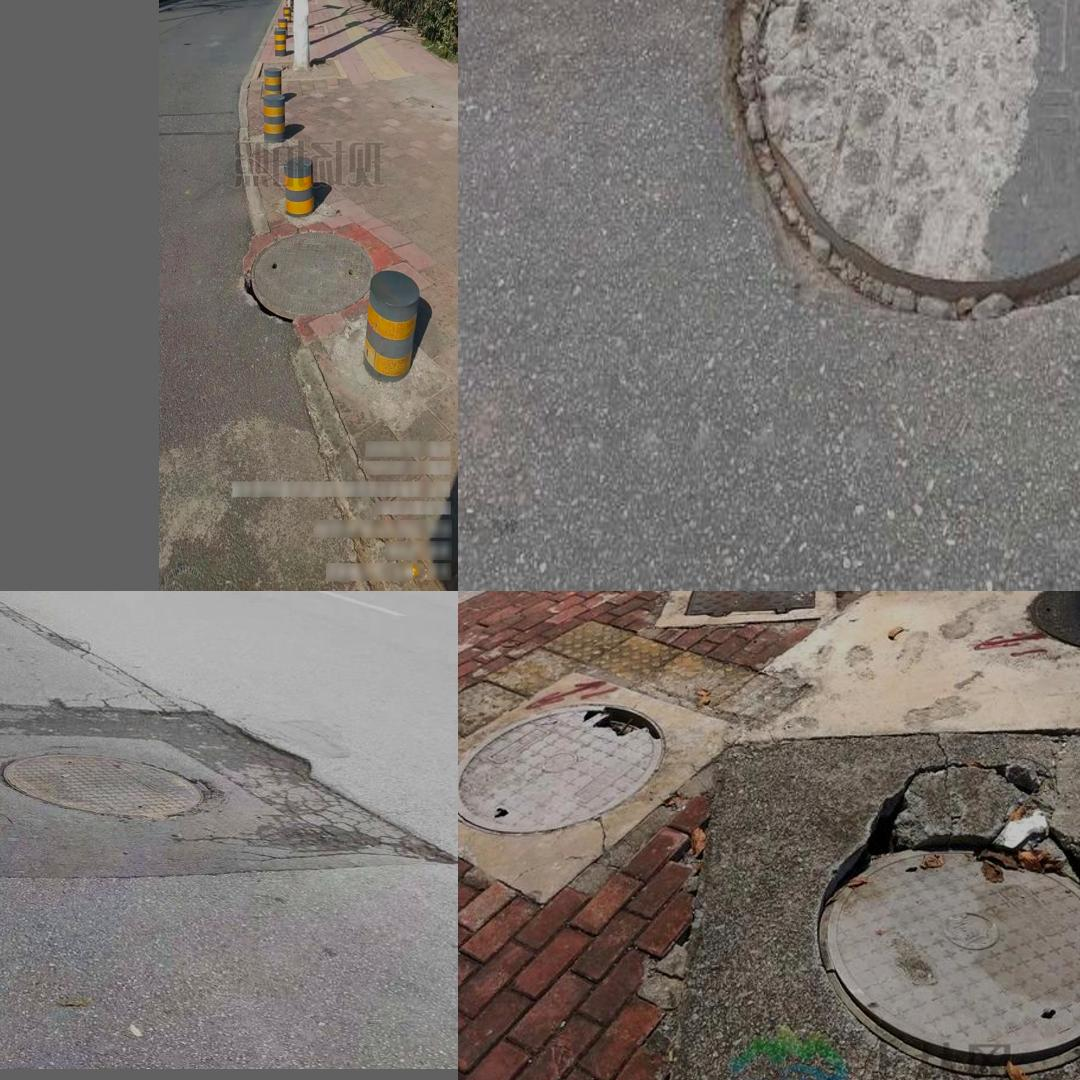circle: (650, 712, 1080, 1080), (699, 0, 1080, 332), (0, 718, 360, 872), (240, 225, 376, 330)
